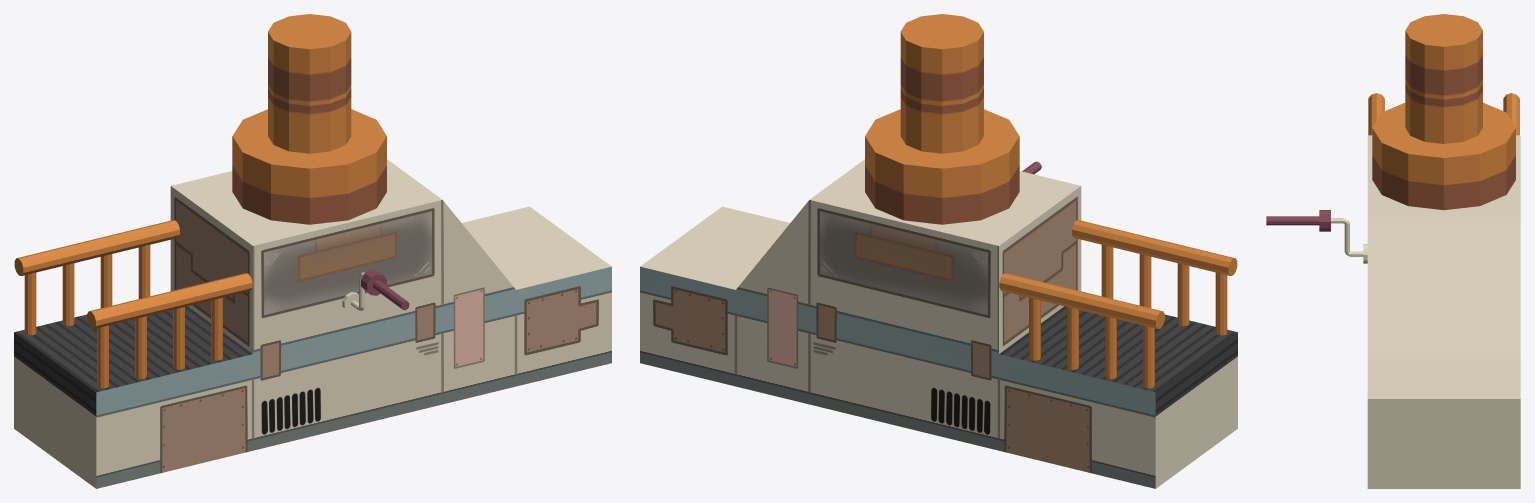
File: crusher.fbx
The picture shows the model from 3 angles, left to right: view 1: azimuth 30°, elevation 25°; view 2: azimuth 150°, elevation 25°; view 3: azimuth 270°, elevation 25°; orthographic projection. The views are drawn at different scales.
Visible parts, largest first — view 1: crank1; view 2: crank1; view 3: crank1.
Boxes of the visible parts, x1,y1,x2,y2 form: crank1: [14, 14, 611, 488]; crank1: [640, 14, 1237, 488]; crank1: [1266, 14, 1520, 488].
Bounding box in the file's own units: 8.82 × 5.97 × 4.05.
